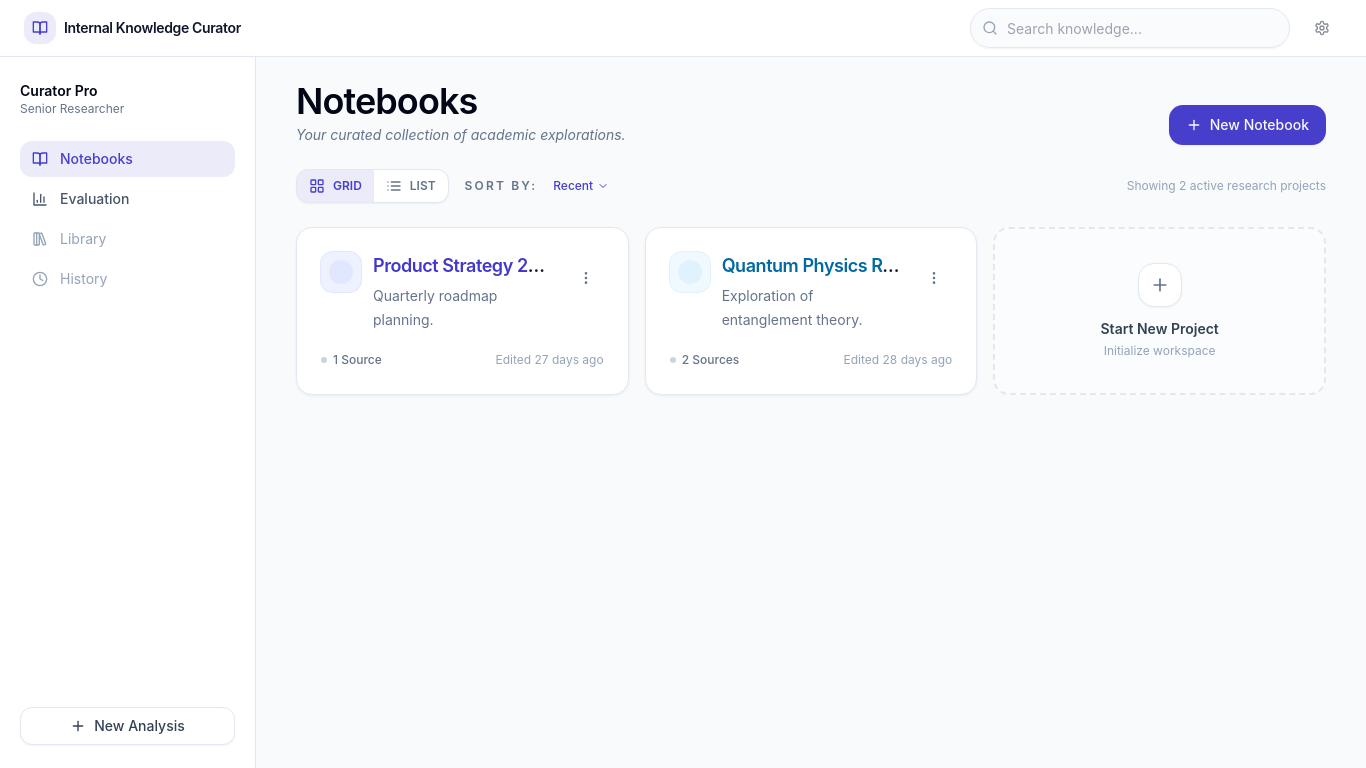
NotebooksPage › renders notebooks and supports search filtering
expect the heading "Notebooks" is shown: met, box [296,79,477,123]
expect the text "Product Strategy 2024" is shown: met, box [373,255,556,276]
Step 1. Type "product" into the field labelled "Search knowledge" → (1130, 28), box [970,8,1290,48]
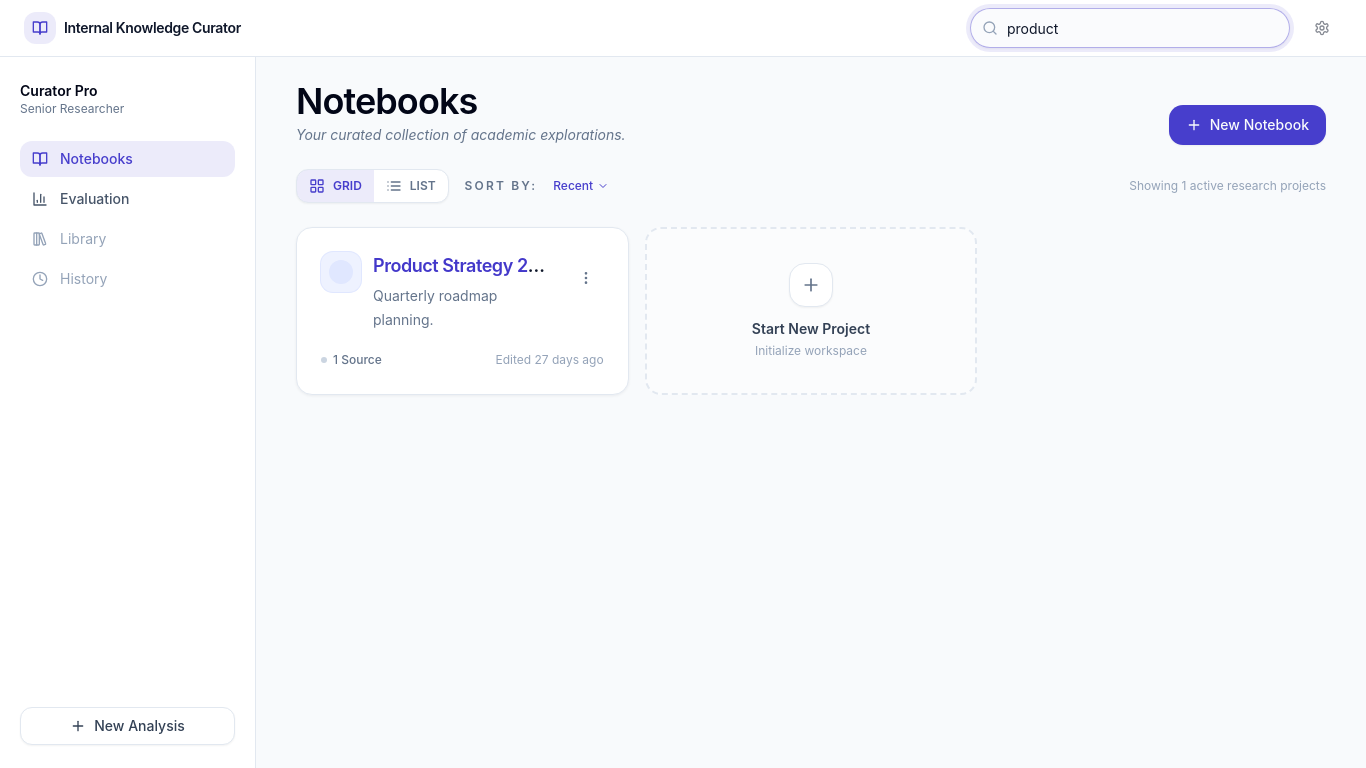
expect the text "Product Strategy 2024" is shown: met, box [373,255,556,276]
expect the text "Quantum Physics Research" is gone: met
